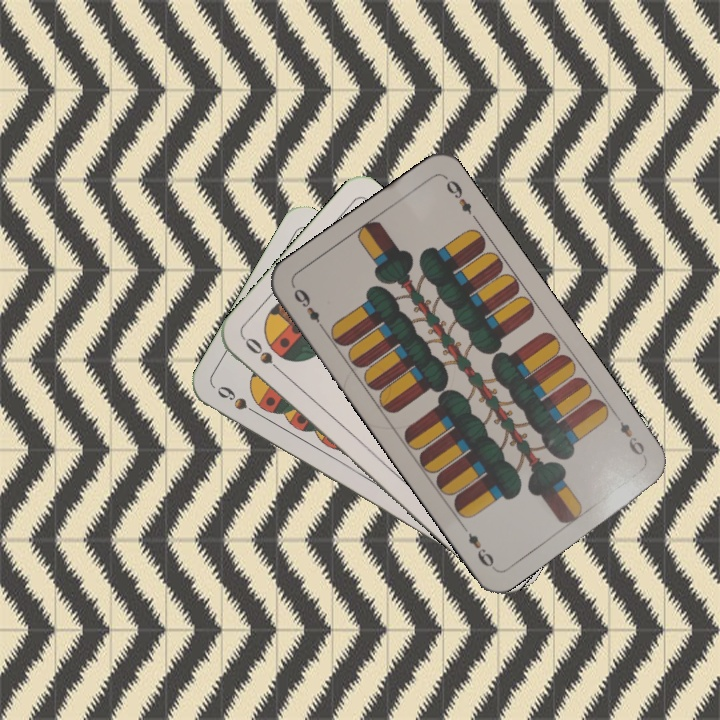E9: (289, 284, 328, 334), (610, 409, 648, 459)
S9: (212, 381, 266, 420)
SO: (240, 333, 288, 378)
